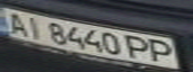0: (100, 29, 124, 56)
4: (81, 28, 103, 53), (63, 25, 84, 48)
8: (42, 19, 69, 46)
A: (3, 10, 30, 36)
I: (21, 14, 48, 39)
P: (145, 37, 181, 63), (124, 33, 154, 61)
